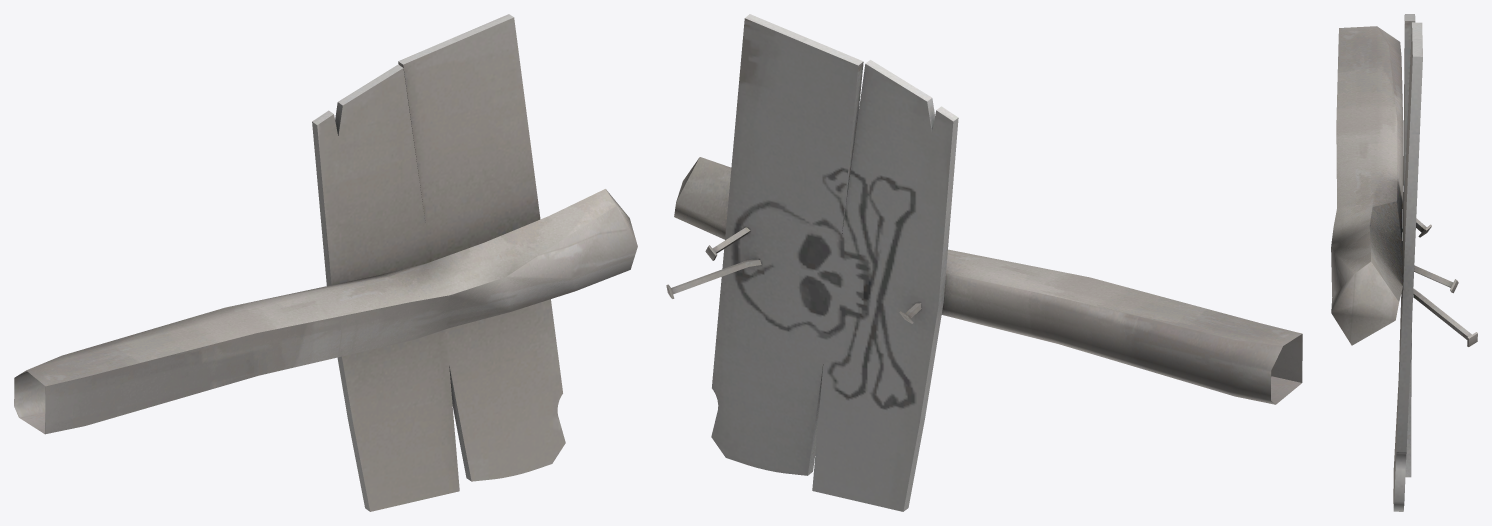
File: props_mining_sign001.glb
3 renders of one model, left to right at view 1: azimuth 30°, elevation 25°; view 2: azimuth 150°, elevation 25°; view 3: azimuth 270°, elevation 25°, orthographic. The views are drawn at different scales.
Visible parts, largest first — view 1: models/props_mining/sign001; view 2: models/props_mining/sign001; view 3: models/props_mining/sign001.
Part boxes in pixels (x1,y1,x2,y2): models/props_mining/sign001: (14,14,637,511); models/props_mining/sign001: (666,14,1302,511); models/props_mining/sign001: (1331,14,1477,511).
Size of the model in its own units: 66.99 by 48.78 by 14.44.
1 material, 1 textured.
